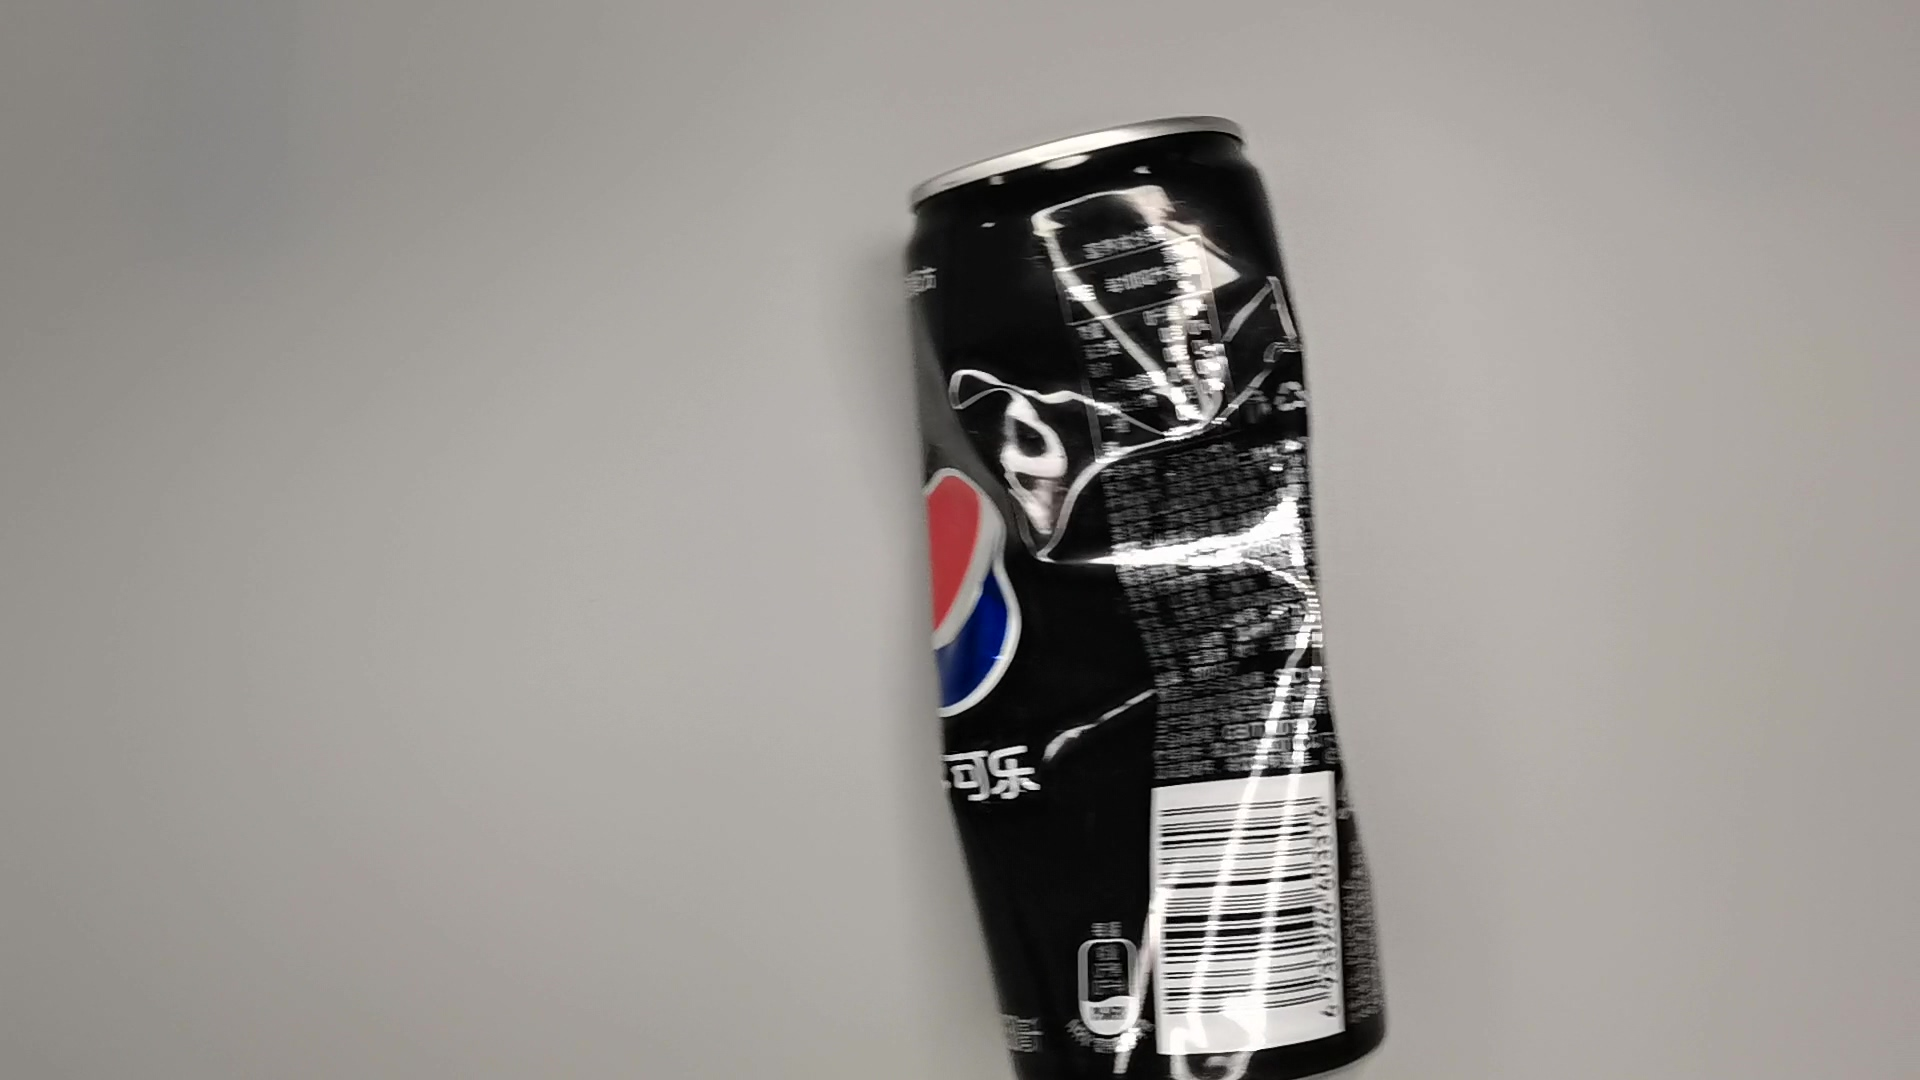can: (897, 102, 1396, 1080)
